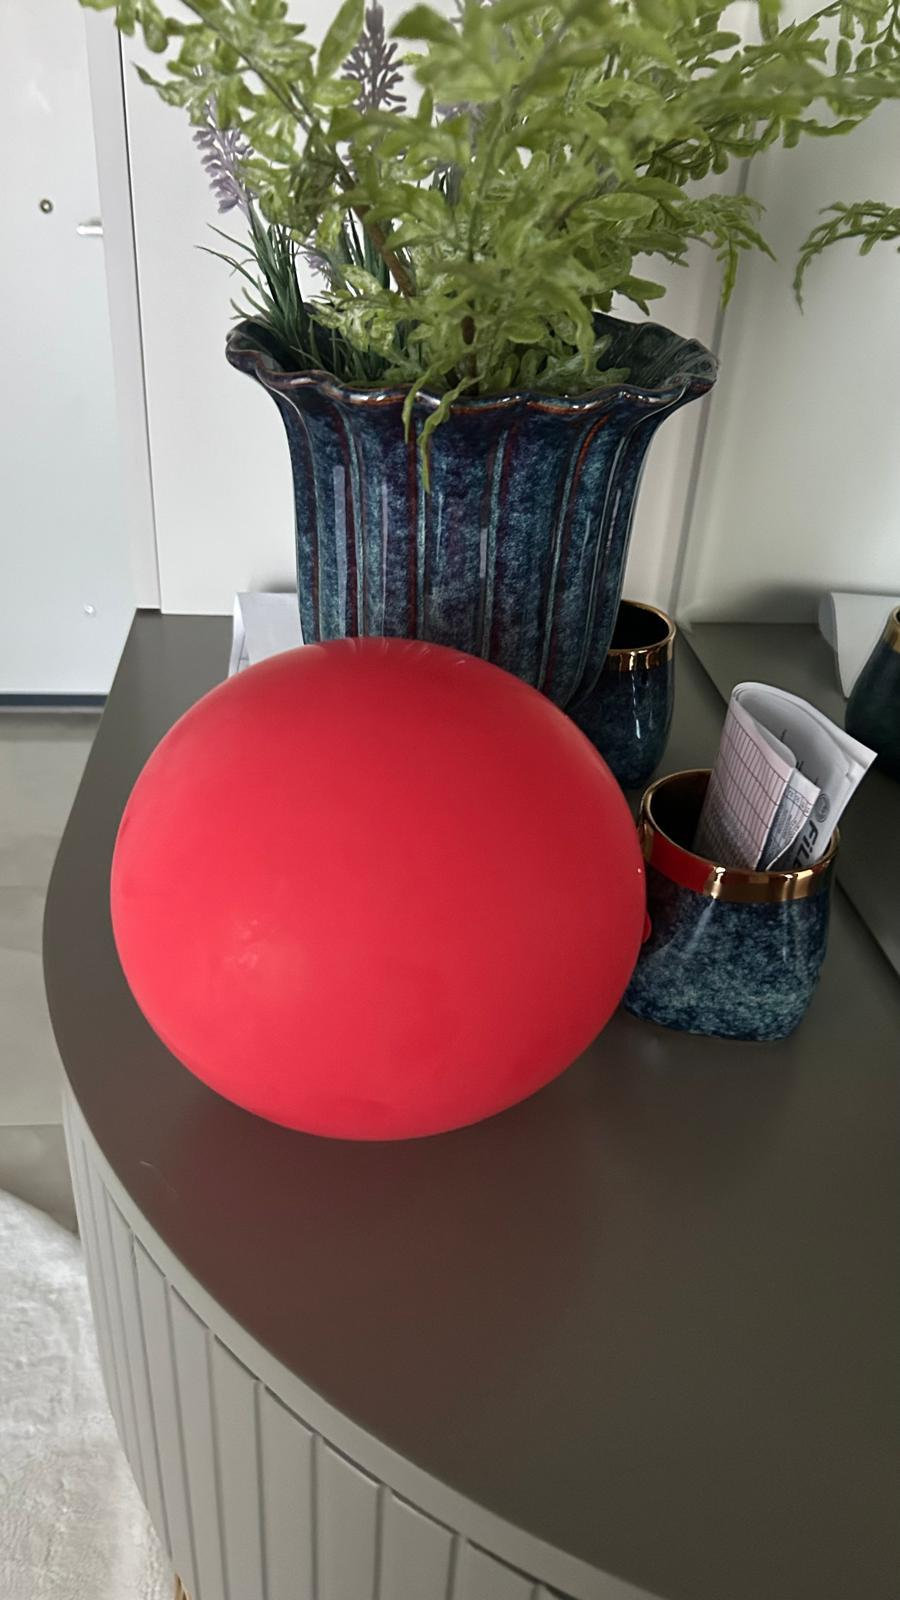red: (104, 631, 653, 1147)
